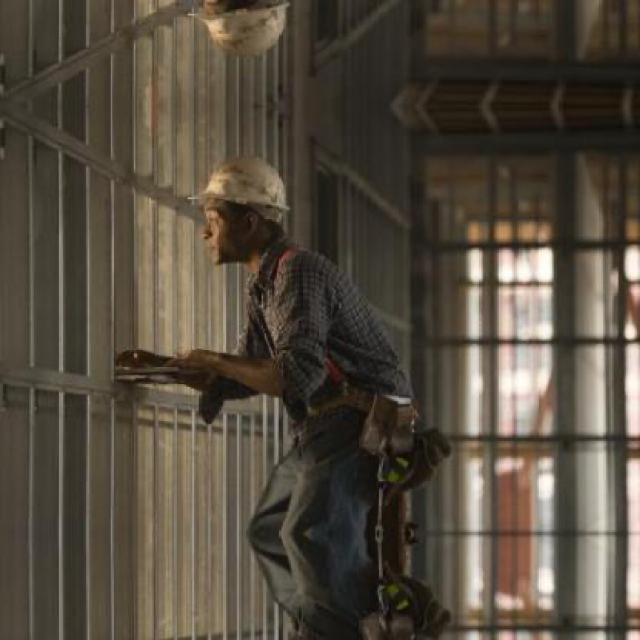helmet: (192, 143, 298, 267), (192, 0, 300, 71)
